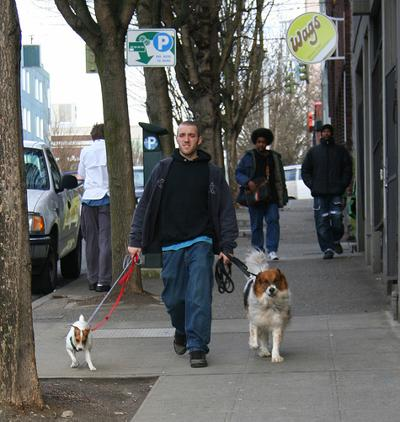person: (131, 120, 238, 366)
